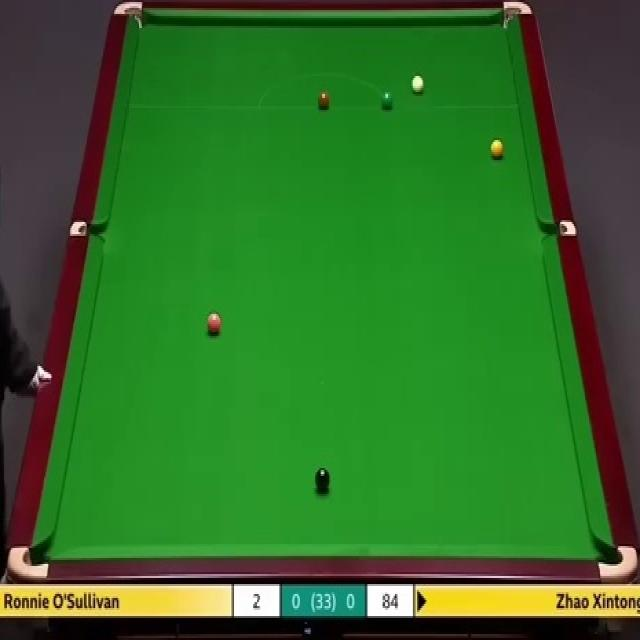pocket: (597, 542, 637, 583), (6, 542, 51, 578), (110, 0, 146, 34), (499, 0, 532, 32), (540, 218, 576, 237), (66, 220, 102, 237)
